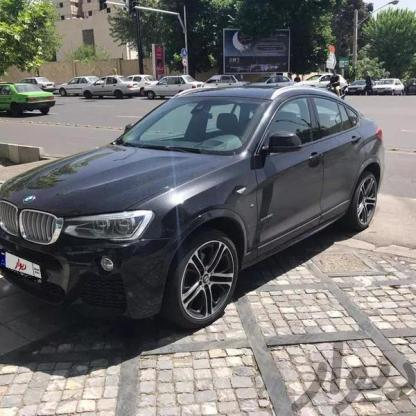Car: (0, 80, 390, 332), (0, 78, 53, 118), (137, 79, 220, 96), (81, 80, 136, 102), (302, 70, 350, 89), (249, 72, 296, 88), (203, 72, 244, 90), (54, 79, 91, 97), (375, 77, 403, 94), (346, 79, 374, 94)
